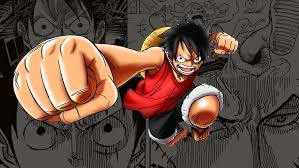luffy: (140, 23, 239, 82)
